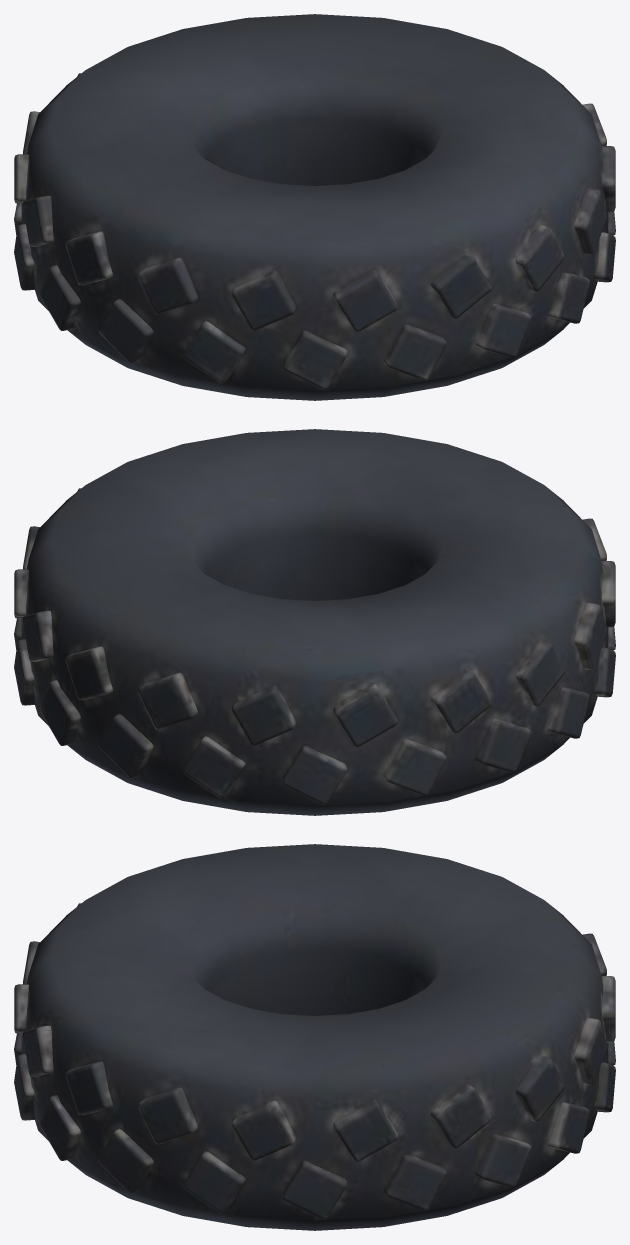
The model's file is tyre.glb.
3 views of the same model, one above another, from view 1: azimuth 30°, elevation 25°; view 2: azimuth 150°, elevation 25°; view 3: azimuth 270°, elevation 25° (orthographic).
Visible parts, largest first — view 1: body; view 2: body; view 3: body.
Part boxes in pixels (x1=…): body: x1=14, y1=14, x2=615, y2=400; body: x1=14, y1=429, x2=615, y2=815; body: x1=14, y1=844, x2=615, y2=1230.
Bounding box in the file's own units: 1.27 × 0.392 × 1.27.
Materials: 1 (1 with a texture image).
